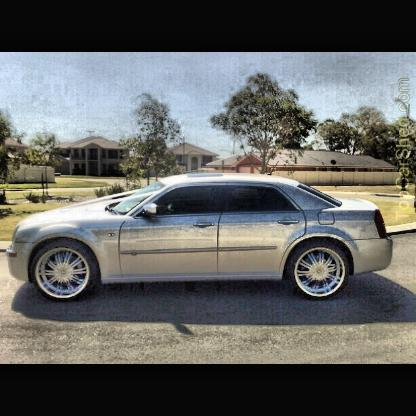Chrysler 300 SRT-8 2010: (5, 172, 396, 311)
